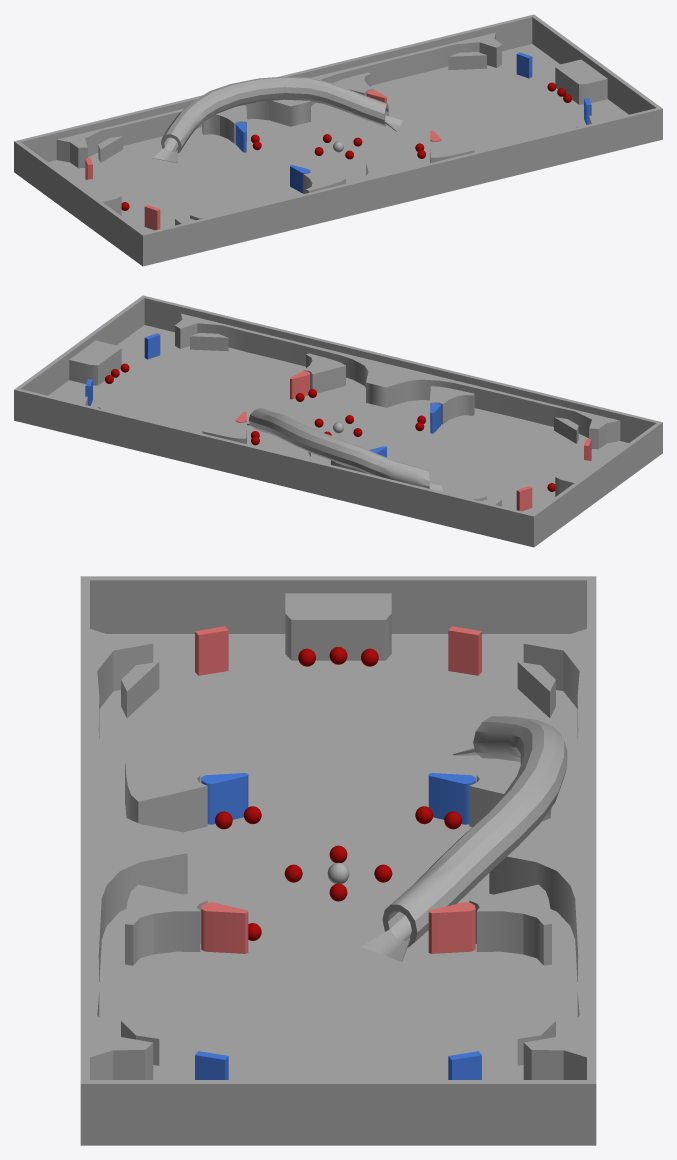
Rendered from KGTable001.fbx.
3 views of the same model, one above another, from view 1: azimuth 30°, elevation 25°; view 2: azimuth 150°, elevation 25°; view 3: azimuth 270°, elevation 25° (orthographic). The views are drawn at different scales.
Visible parts, largest first — view 1: floor_GEO, wall02_GEO, sideBox01_GEO, tunnel01_GEO, wall01_GEO, wall03_GEO, wall04_GEO, goalDivider01_GEO1, box01_GEO, sideBox02_GEO, goalDivider01_GEO, box02_GEO (+6 smaller); view 2: floor_GEO, wall01_GEO, sideBox02_GEO, wall02_GEO, tunnel01_GEO, wall03_GEO, wall04_GEO, goalDivider01_GEO1, box04_GEO, box02_GEO, goalDivider01_GEO, sideBox01_GEO (+6 smaller); view 3: floor_GEO, wall04_GEO, wall03_GEO, sideBox02_GEO, sideBox01_GEO, tunnel01_GEO, goalDivider01_GEO, wall01_GEO, wall02_GEO, box03_GEO, box04_GEO, box02_GEO (+15 smaller).
Boxes of the visible parts, x1=… form: floor_GEO: x1=14, y1=44, x2=662, y2=266; wall02_GEO: x1=140, y1=107, x2=662, y2=262; sideBox01_GEO: x1=56, y1=32, x2=501, y2=168; tunnel01_GEO: x1=161, y1=76, x2=388, y2=153; wall01_GEO: x1=14, y1=14, x2=535, y2=169; wall03_GEO: x1=16, y1=142, x2=143, y2=260; wall04_GEO: x1=532, y1=16, x2=659, y2=114; goalDivider01_GEO1: x1=555, y1=59, x2=607, y2=104; box01_GEO: x1=202, y1=105, x2=246, y2=143; sideBox02_GEO: x1=175, y1=115, x2=605, y2=225; goalDivider01_GEO: x1=76, y1=178, x2=121, y2=215; box02_GEO: x1=303, y1=170, x2=345, y2=193; floor_GEO: x1=14, y1=325, x2=662, y2=547; wall01_GEO: x1=14, y1=388, x2=536, y2=543; sideBox02_GEO: x1=175, y1=313, x2=620, y2=449; wall02_GEO: x1=141, y1=295, x2=662, y2=450; tunnel01_GEO: x1=248, y1=408, x2=429, y2=488; wall03_GEO: x1=533, y1=423, x2=660, y2=541; wall04_GEO: x1=17, y1=297, x2=144, y2=395; goalDivider01_GEO1: x1=69, y1=340, x2=121, y2=385; box04_GEO: x1=303, y1=353, x2=345, y2=393; box02_GEO: x1=430, y1=386, x2=474, y2=424; goalDivider01_GEO: x1=555, y1=459, x2=600, y2=496; sideBox01_GEO: x1=71, y1=396, x2=501, y2=506; floor_GEO: x1=80, y1=634, x2=596, y2=1145; wall04_GEO: x1=90, y1=1080, x2=586, y2=1137; wall03_GEO: x1=90, y1=576, x2=586, y2=633; sideBox02_GEO: x1=90, y1=629, x2=187, y2=1079; sideBox01_GEO: x1=489, y1=629, x2=586, y2=1079; tunnel01_GEO: x1=382, y1=716, x2=567, y2=947; goalDivider01_GEO: x1=285, y1=593, x2=391, y2=660; wall01_GEO: x1=587, y1=576, x2=596, y2=1137; wall02_GEO: x1=80, y1=576, x2=89, y2=1137; box03_GEO: x1=469, y1=884, x2=551, y2=965; box04_GEO: x1=125, y1=884, x2=207, y2=965; box02_GEO: x1=125, y1=761, x2=207, y2=832.
Size of the model in its own units: 26.8 by 2.34 by 11.5.
